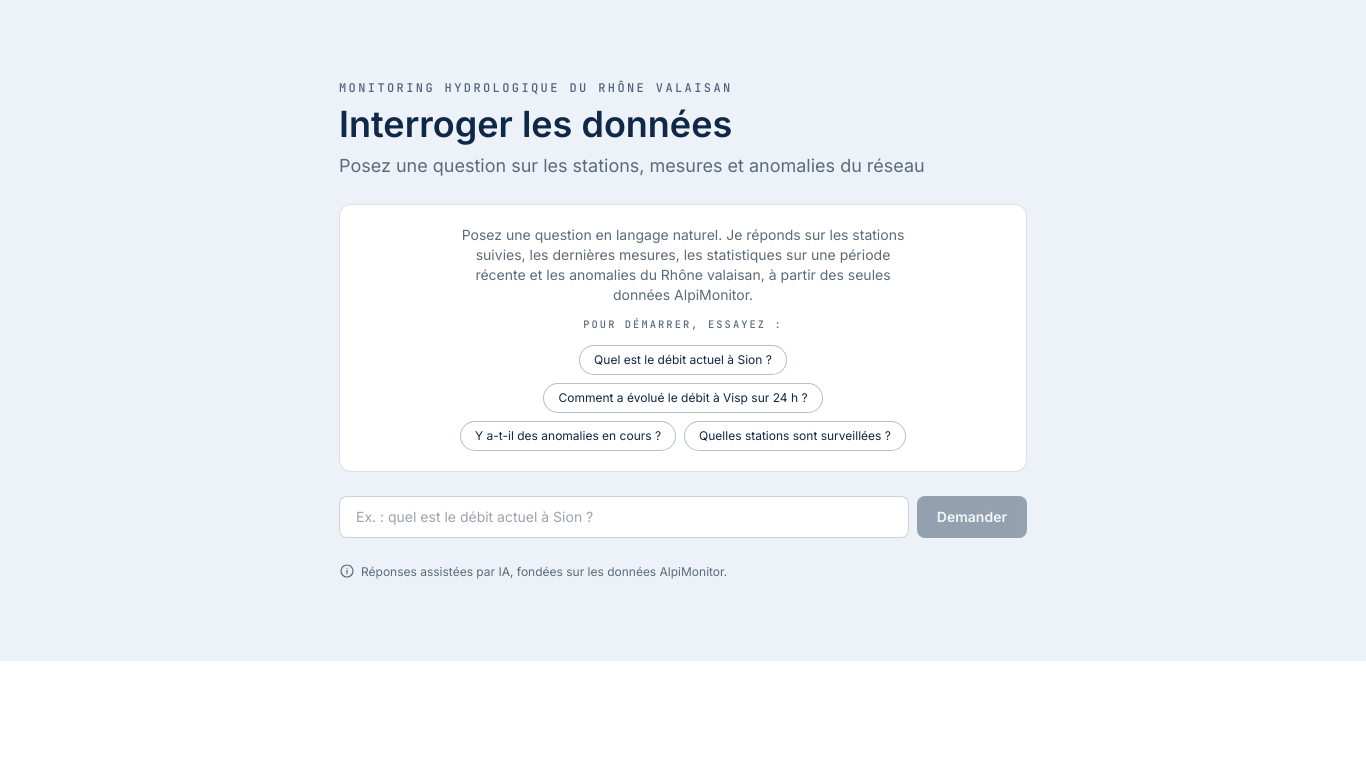
OChatPanel › sends an example question directly when its chip is clicked
What coordinates should you click on to do the following:
click the button with class "o-chat-panel__example" that starts with "Quel est le débit actuel à Sion ?"
I would click on:
 (683, 360)
Its box is [579,345,787,375].
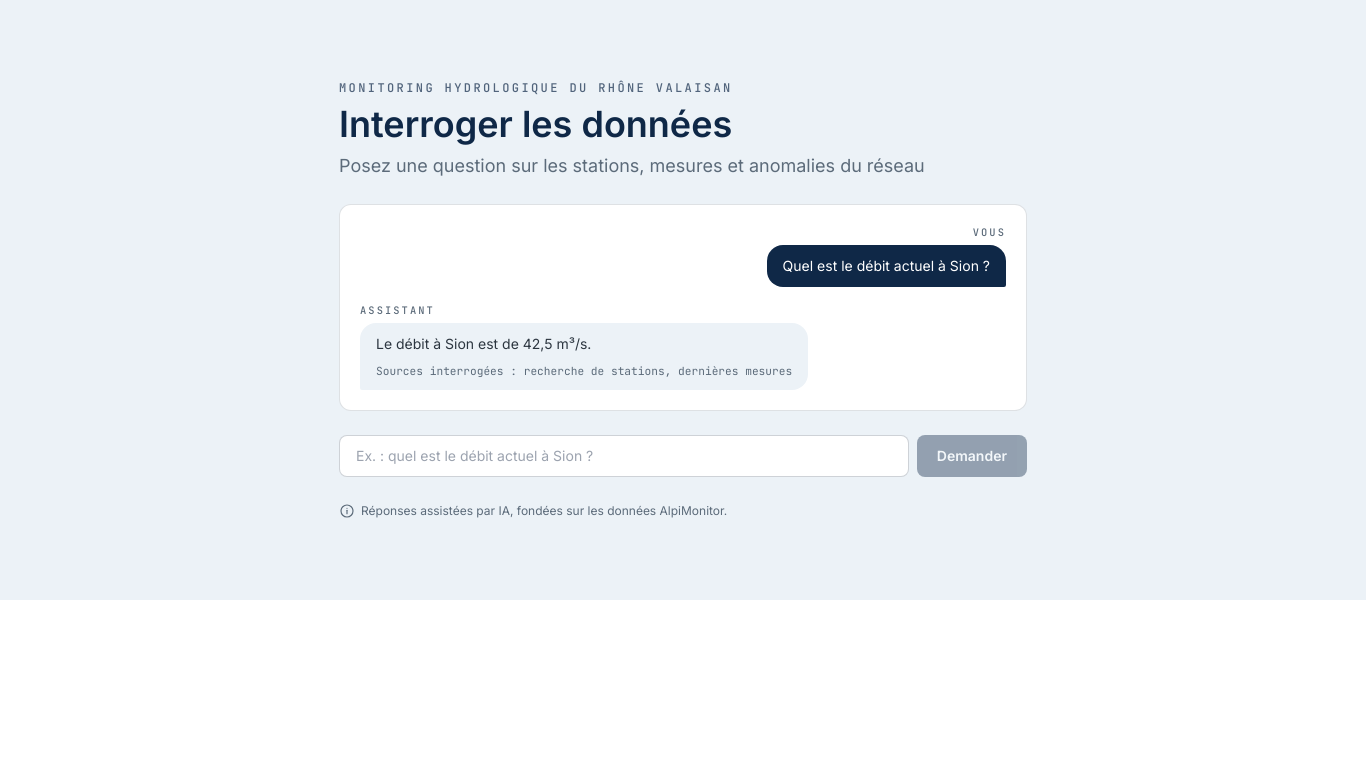
expect the text with class "o-chat-panel__bubble--user" reads "Quel est le débit actuel à Sion ?": met, box [783,257,990,274]
expect no buttons with class "o-chat-panel__example" are shown: met
